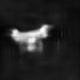plane: (9, 23, 51, 53)
